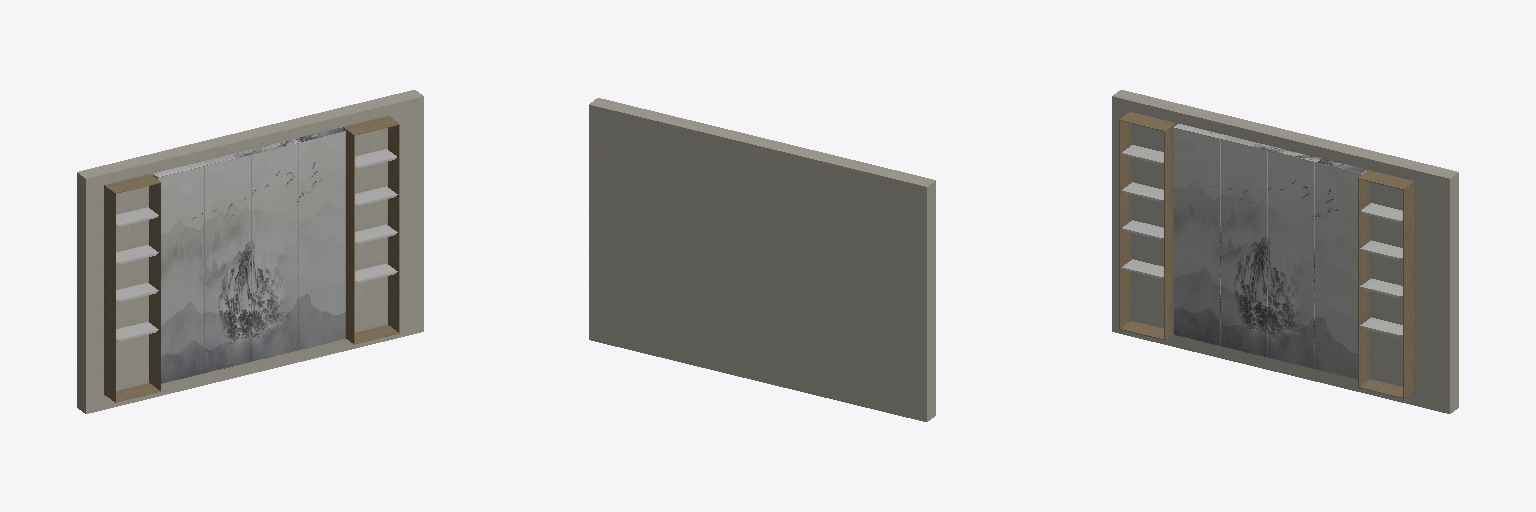
3 renders of one model, left to right at view 1: azimuth 30°, elevation 25°; view 2: azimuth 150°, elevation 25°; view 3: azimuth 330°, elevation 25°, orthographic.
Visible parts, largest first — view 1: solid_002, solid_001, solid_003, solid_004; view 2: solid_001; view 3: solid_002, solid_001, solid_003, solid_004.
Part boxes in pixels (x1,y1,x2,y2): solid_002: (153, 128, 345, 383); solid_001: (77, 90, 423, 413); solid_003: (104, 116, 399, 402); solid_004: (116, 149, 397, 340); solid_001: (589, 98, 935, 421); solid_002: (1174, 124, 1366, 379); solid_001: (1112, 90, 1458, 413); solid_003: (1119, 112, 1414, 398); solid_004: (1122, 145, 1402, 336).
Size of the model in its own units: 4.21 by 2.8 by 0.44.
Materials: 1 (1 with a texture image).